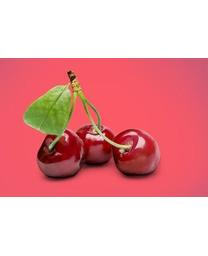cherry: (36, 129, 84, 178), (112, 129, 160, 176), (75, 125, 113, 166)
